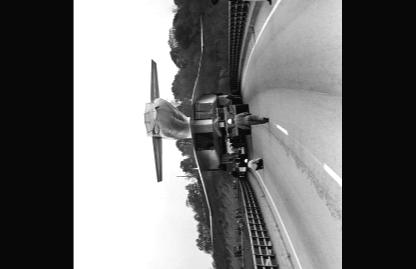U2: (142, 14, 247, 254)
